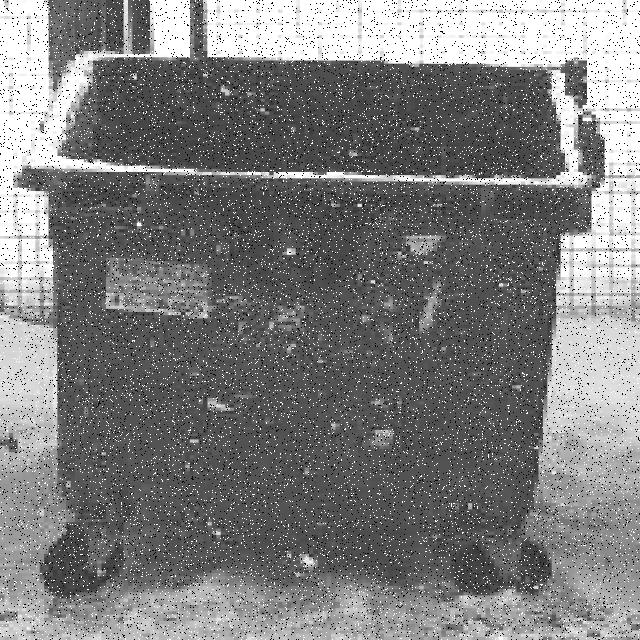Trashcan: (12, 18, 614, 602)
